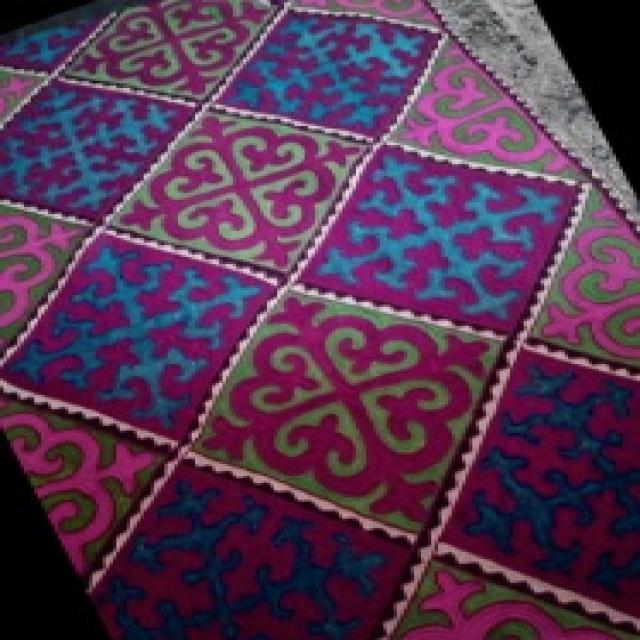Unity: (195, 298, 510, 529), (121, 119, 364, 270), (0, 401, 169, 592), (394, 41, 594, 178), (59, 1, 280, 98), (532, 181, 637, 363)
